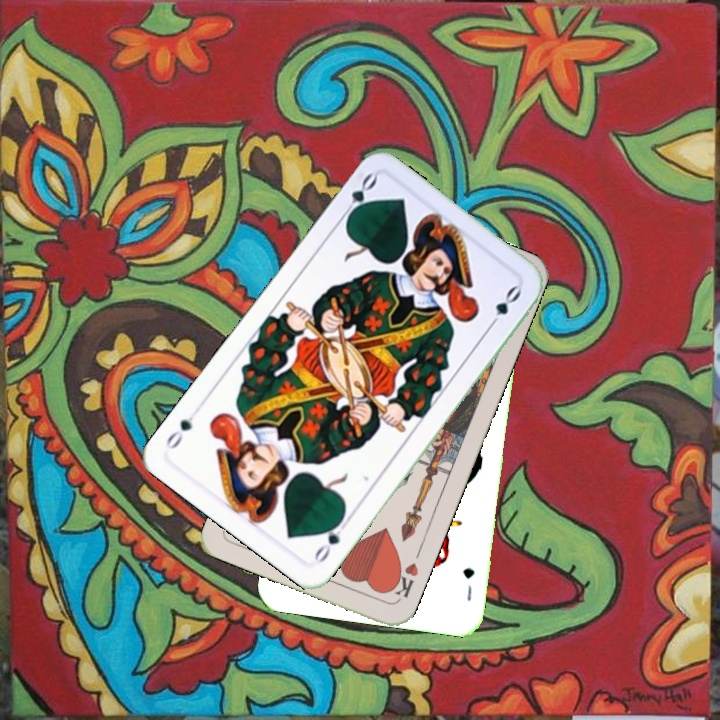GO: (336, 169, 380, 224), (309, 512, 352, 566)
GU: (459, 563, 478, 604)
HK: (385, 558, 421, 603)
